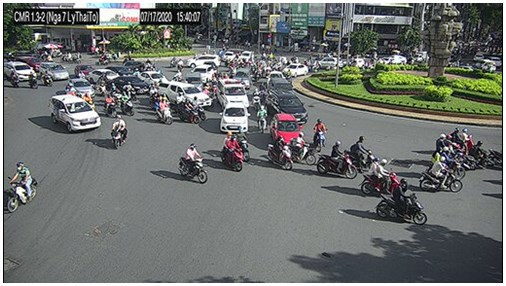xe_hoi: (49, 95, 99, 132), (265, 90, 307, 125), (157, 81, 210, 108), (269, 114, 303, 150), (221, 102, 247, 134), (107, 77, 150, 95), (4, 61, 36, 81), (68, 77, 96, 98), (39, 62, 69, 80), (141, 71, 168, 89), (190, 65, 215, 83), (88, 70, 120, 84), (188, 54, 220, 67), (309, 57, 341, 70), (106, 66, 133, 79), (284, 63, 309, 77), (75, 64, 93, 76)
xe_may: (376, 178, 428, 226), (8, 161, 38, 214), (318, 140, 358, 179), (420, 156, 462, 192), (361, 159, 404, 194), (345, 135, 382, 171), (178, 144, 209, 185), (430, 147, 465, 181), (266, 135, 293, 171), (287, 132, 315, 165), (222, 130, 242, 172), (466, 141, 493, 170), (447, 128, 477, 154), (435, 133, 462, 158), (176, 98, 200, 126), (112, 114, 126, 151), (156, 96, 173, 126), (237, 126, 250, 164), (313, 119, 327, 153), (120, 91, 135, 117), (192, 97, 207, 121), (256, 105, 267, 134), (104, 93, 116, 117), (489, 147, 502, 167), (252, 86, 261, 110), (97, 52, 108, 65), (170, 54, 179, 69), (177, 57, 185, 72)
